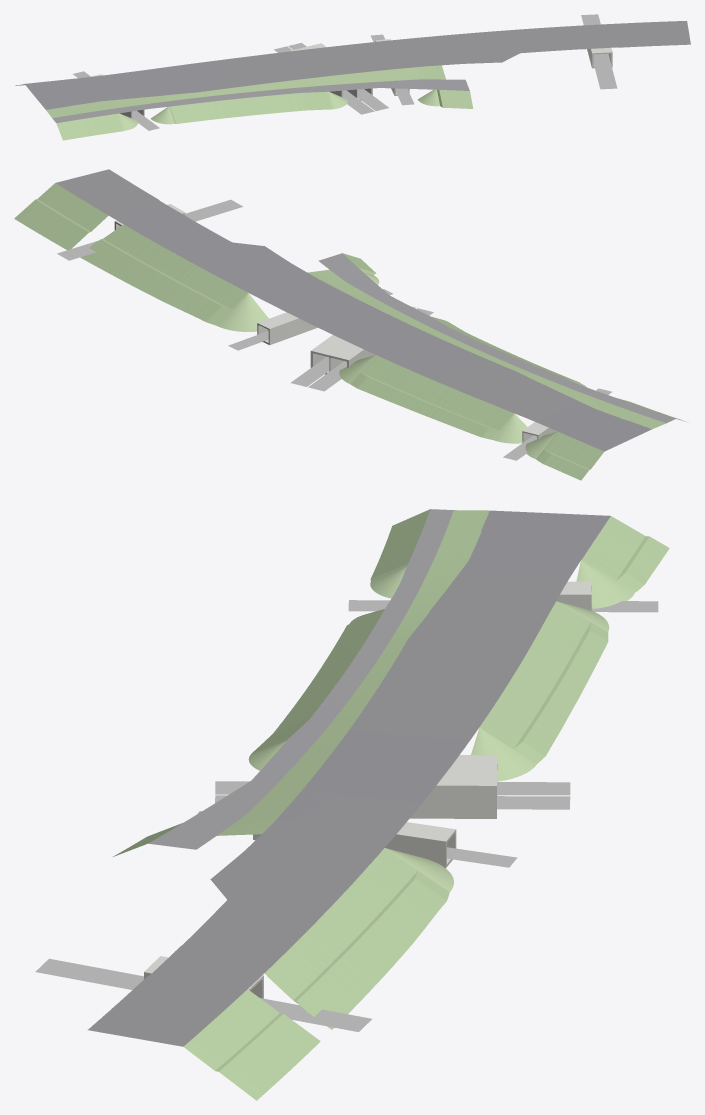
3 renders of one model, top to bottom at view 1: azimuth 30°, elevation 25°; view 2: azimuth 150°, elevation 25°; view 3: azimuth 270°, elevation 25°, orthographic. The views are drawn at different scales.
Visible parts, largest first — view 1: model; view 2: model; view 3: model.
Boxes of the visible parts, x1,y1,x2,y2 form: model: (15,14,690,140); model: (14,169,687,480); model: (35,509,669,1100).
Size of the model in its own units: 346 by 14.76 by 162.
